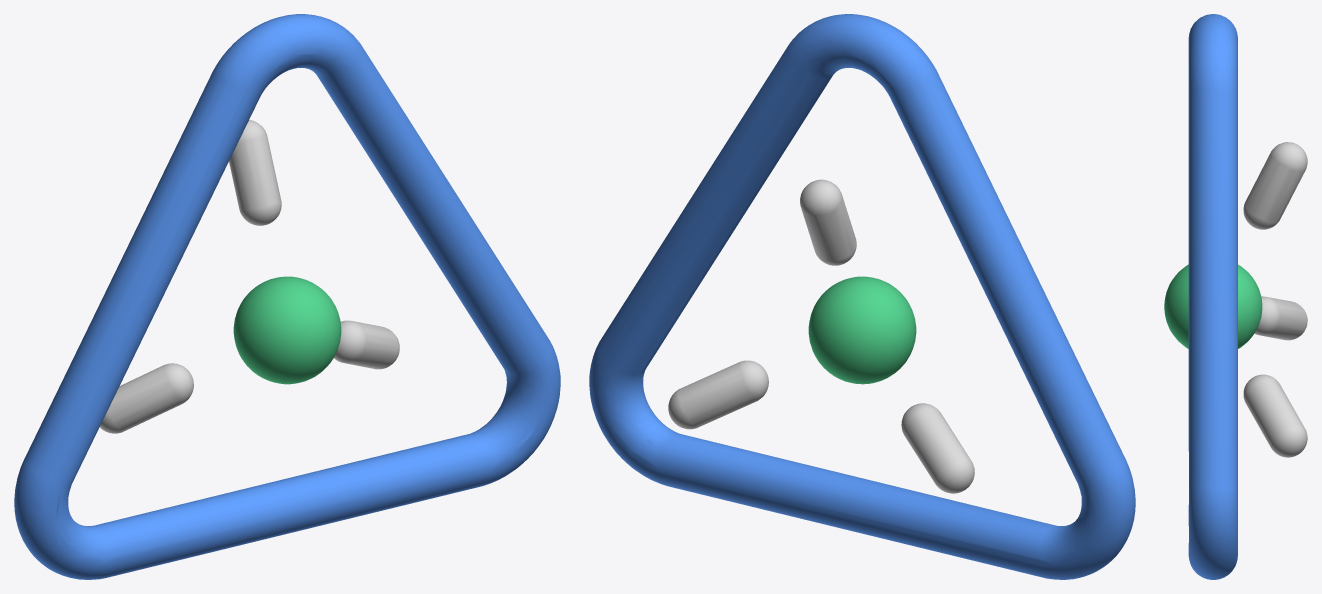
File: body.obj
3 views of the same model, side by side, from view 1: azimuth 30°, elevation 25°; view 2: azimuth 150°, elevation 25°; view 3: azimuth 270°, elevation 25° (orthographic). The views are drawn at different scales.
Visible parts, largest first — view 1: shapr3d_export_2026-09-22_00h15m; view 2: shapr3d_export_2026-09-22_00h15m; view 3: shapr3d_export_2026-09-22_00h15m.
Part boxes in pixels (x1=…): shapr3d_export_2026-09-22_00h15m: x1=14, y1=14, x2=560, y2=579; shapr3d_export_2026-09-22_00h15m: x1=589, y1=14, x2=1135, y2=579; shapr3d_export_2026-09-22_00h15m: x1=1164, y1=14, x2=1307, y2=579.
Bounding box in the file's own units: 0.0636 × 0.0577 × 0.0161.
Materials: 1 (1 with a texture image).
